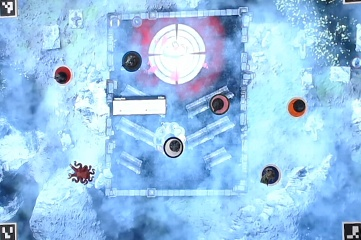blue: (259, 164, 282, 187)
brown_turquoise: (121, 52, 144, 75)
orange: (285, 96, 308, 119)
pink_green: (208, 92, 231, 115)
red: (53, 64, 76, 87)
white: (68, 160, 97, 186), (162, 135, 185, 158)
